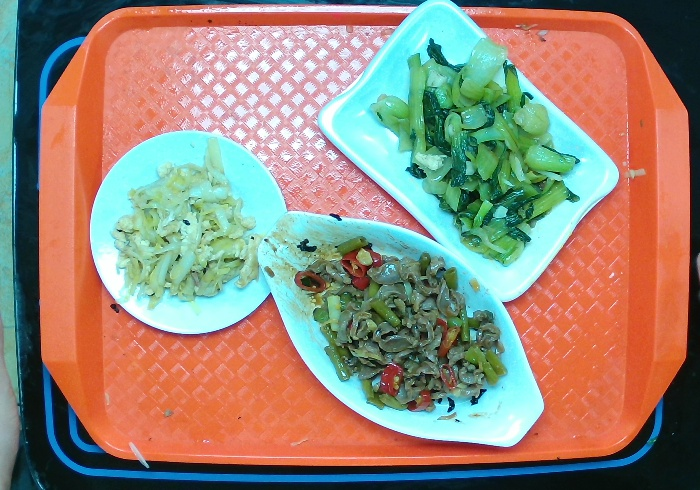RJxy-Si_Fang_Ao_Bian_Wan: (321, 1, 625, 312)
RJxy-Xiao_Yuan_Die: (89, 128, 289, 333)
RJxy-Yu_Pan: (254, 208, 545, 450)
